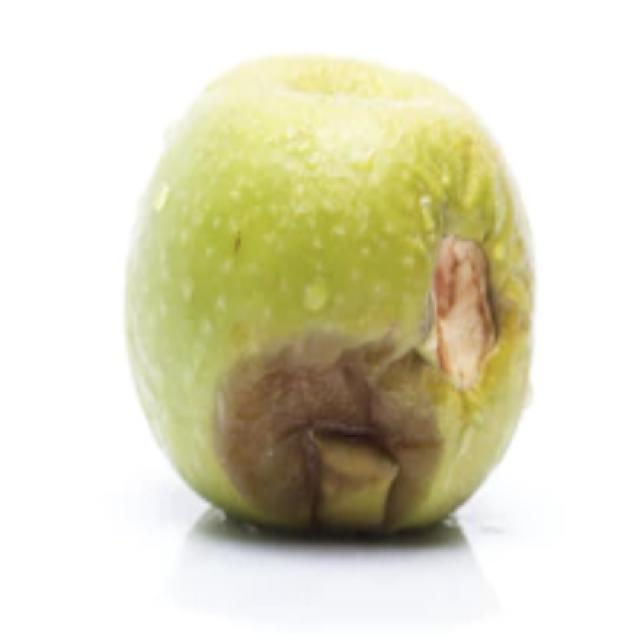Rotten: (125, 58, 555, 542)
